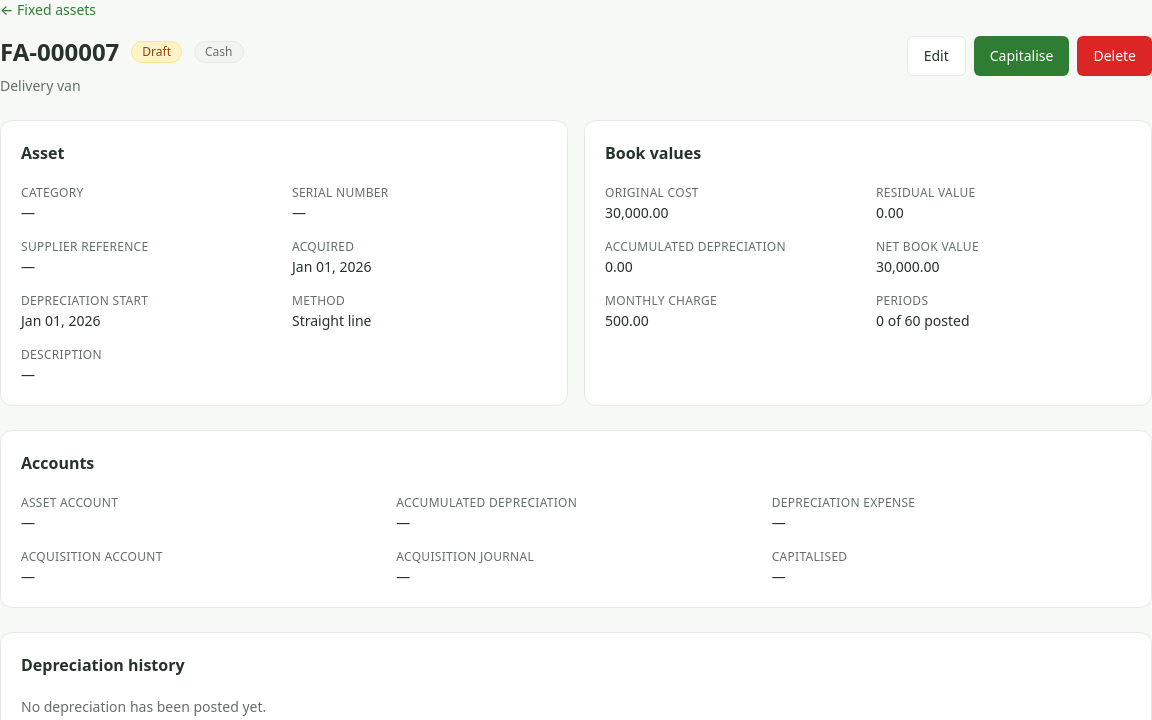
it: FixedAssetDetailView › opens the capitalise confirmation
Click the button "Capitalise" at (1022, 56), box [974,36,1070,76]
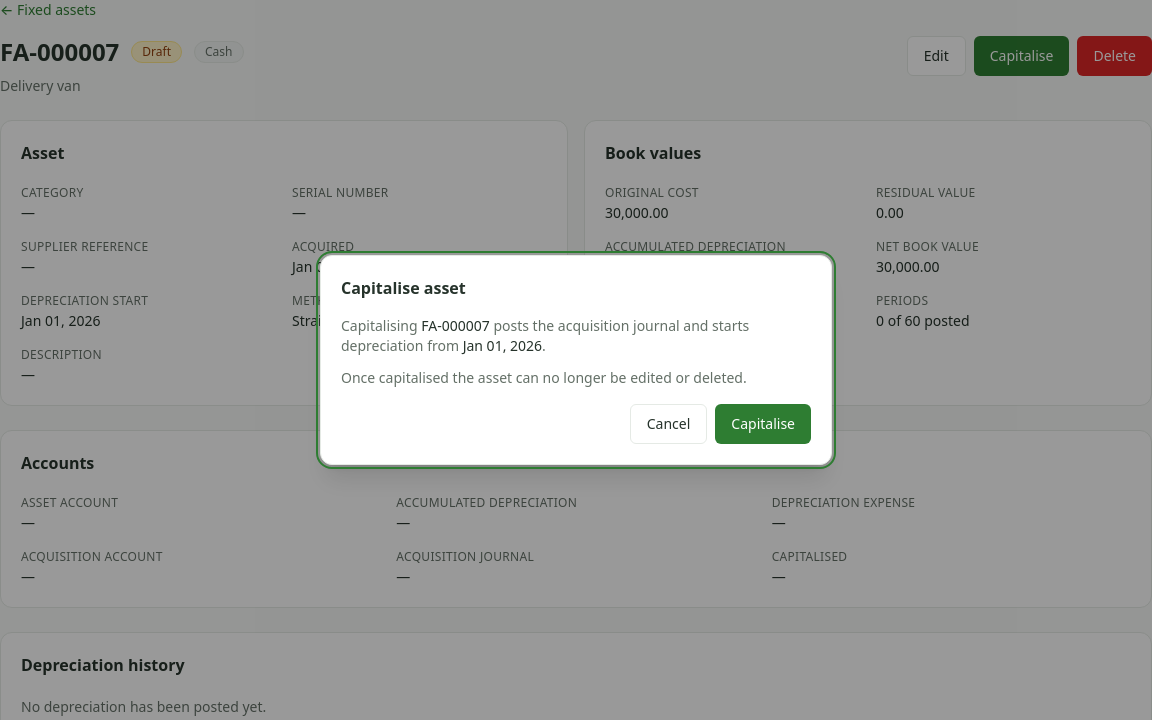
Now the dialog "Capitalise asset" is shown, box [320,255,832,465]
